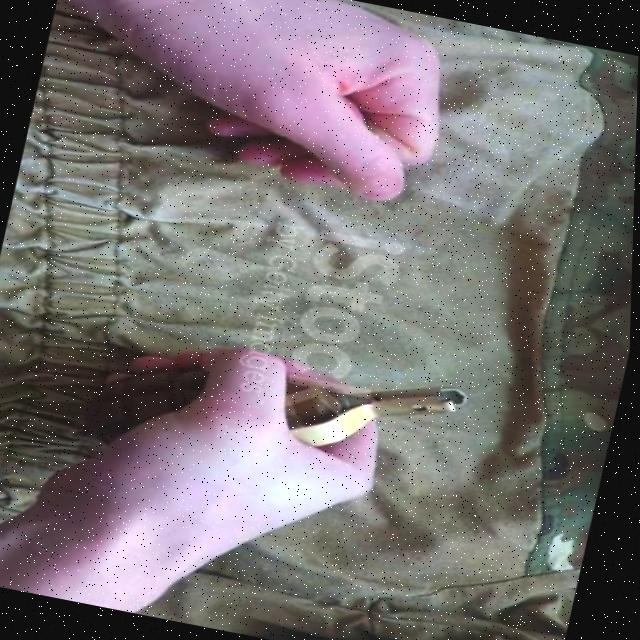grenade: (79, 322, 476, 514)
